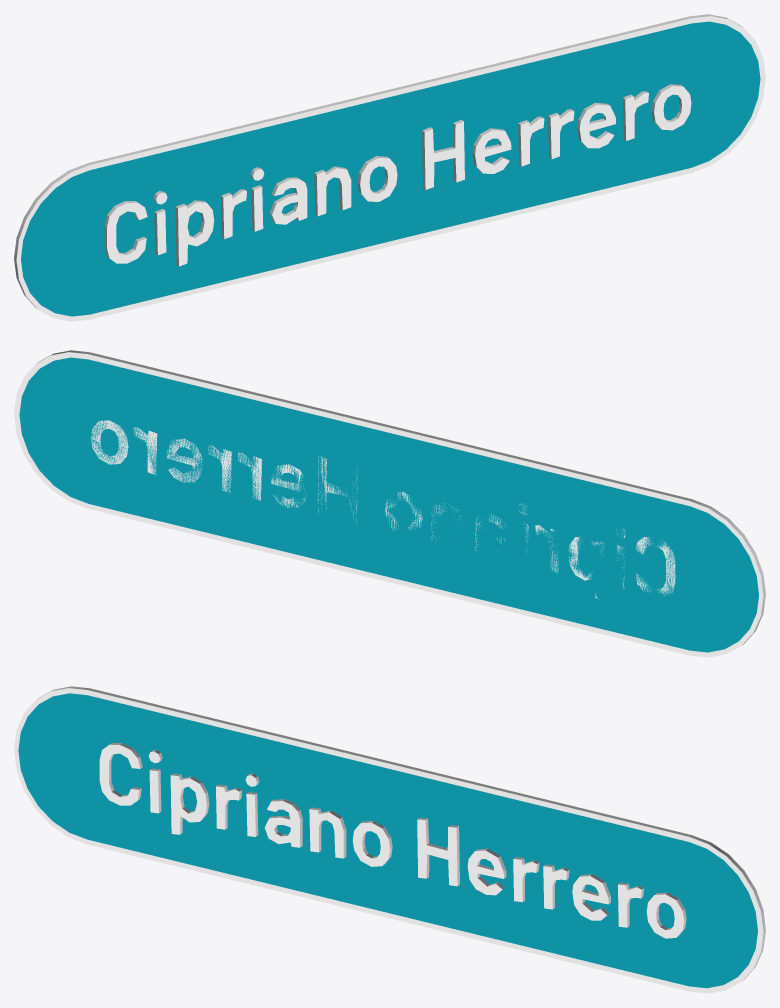
File: ciprianoherreroOBJ.obj
3 renders of one model, top to bottom at view 1: azimuth 30°, elevation 25°; view 2: azimuth 150°, elevation 25°; view 3: azimuth 330°, elevation 25°, orthographic.
Visible parts, largest first — view 1: Entorno_101_Entorno_1__24927_, Texto_de_modelo_Texto_de_modelo_10__24915_, Entorno_102_Entorno_1__24939_; view 2: Entorno_101_Entorno_1__24927_, Entorno_102_Entorno_1__24939_, Texto_de_modelo_Texto_de_modelo_10__24915_; view 3: Entorno_101_Entorno_1__24927_, Texto_de_modelo_Texto_de_modelo_10__24915_, Entorno_102_Entorno_1__24939_.
Boxes of the visible parts, x1=… form: Entorno_101_Entorno_1__24927_: x1=21, y1=21, x2=760, y2=316; Texto_de_modelo_Texto_de_modelo_10__24915_: x1=104, y1=84, x2=691, y2=266; Entorno_102_Entorno_1__24939_: x1=14, y1=14, x2=765, y2=321; Entorno_101_Entorno_1__24927_: x1=19, y1=357, x2=758, y2=652; Entorno_102_Entorno_1__24939_: x1=14, y1=350, x2=765, y2=657; Texto_de_modelo_Texto_de_modelo_10__24915_: x1=91, y1=420, x2=675, y2=598; Entorno_101_Entorno_1__24927_: x1=18, y1=693, x2=757, y2=988; Texto_de_modelo_Texto_de_modelo_10__24915_: x1=99, y1=743, x2=686, y2=938; Entorno_102_Entorno_1__24939_: x1=14, y1=686, x2=765, y2=993.
Size of the model in its own units: 52.69 by 10.39 by 0.6.
